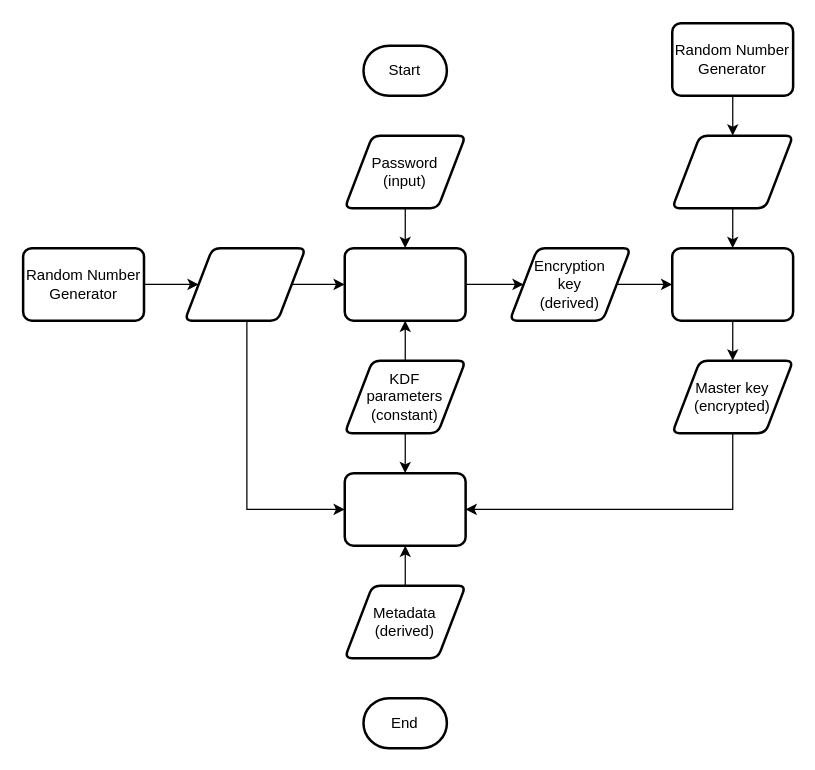
Some shapes in this 815 by 770 pixel diagram are drawn without their labels. Here are the shapes that lost their labels. From the top down, the centre of each, then its label:
(x=732, y=171): Master key (derived)
(x=244, y=283): Salt (derived)
(x=404, y=283): scrypt KDF
(x=732, y=283): AES256-Poly1305-AES
(x=404, y=508): Create Access key (JSON)
